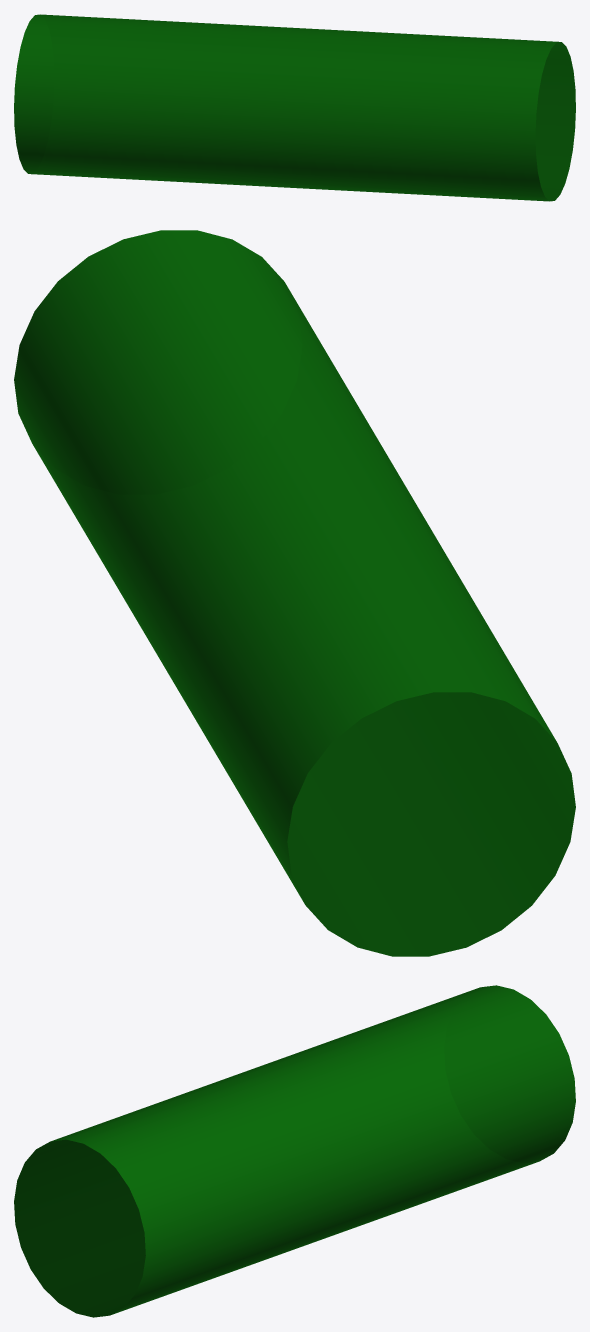
File: Event_134586304_jet_2.fbx
3 renders of one model, top to bottom at view 1: azimuth 30°, elevation 25°; view 2: azimuth 150°, elevation 25°; view 3: azimuth 270°, elevation 25°, orthographic. The views are drawn at different scales.
Parts seen in each view (by area): view 1: Model; view 2: Model; view 3: Model.
Boxes of the visible parts, x1,y1,x2,y2 form: Model: [14, 14, 575, 201]; Model: [14, 230, 575, 956]; Model: [14, 985, 575, 1317].
Bounding box in the file's own units: 0.124 × 0.0477 × 0.1222.
